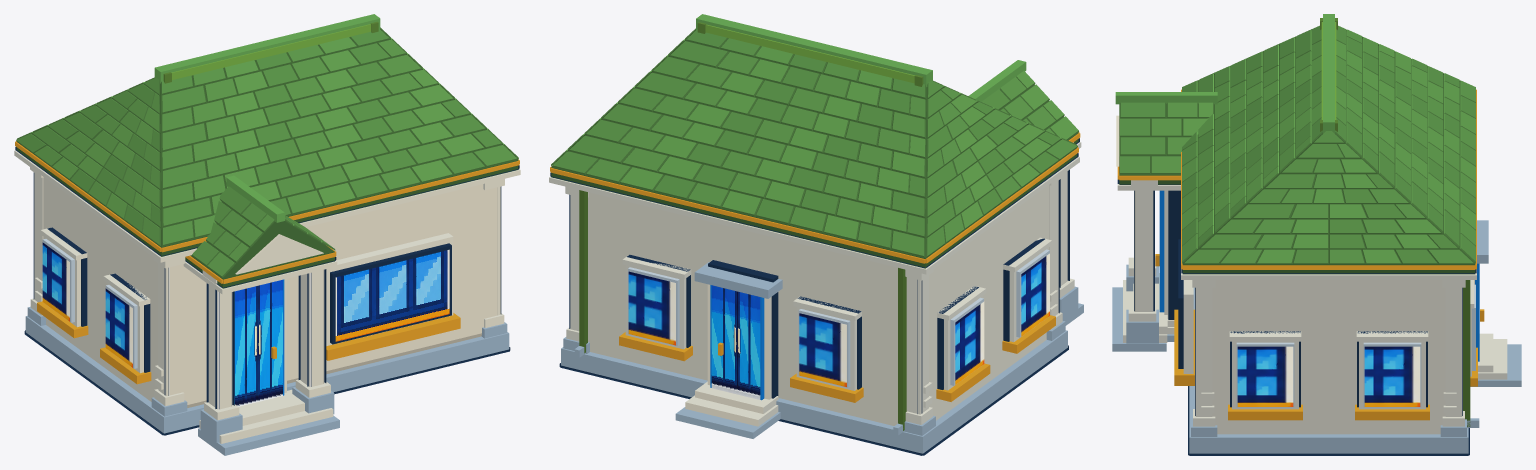
3 views of the same model, side by side, from view 1: azimuth 30°, elevation 25°; view 2: azimuth 150°, elevation 25°; view 3: azimuth 270°, elevation 25° (orthographic). The views are drawn at different scales.
Parts seen in each view (by area): view 1: H02 绿顶侧门屋; view 2: H02 绿顶侧门屋; view 3: H02 绿顶侧门屋.
Part boxes in pixels (left/top/right/bottom): H02 绿顶侧门屋: left=14, top=14, right=520, bottom=455; H02 绿顶侧门屋: left=549, top=14, right=1083, bottom=455; H02 绿顶侧门屋: left=1112, top=14, right=1521, bottom=455.
Size of the model in its own units: 6.84 by 5.42 by 6.65.
Materials: 2 (1 with a texture image).
